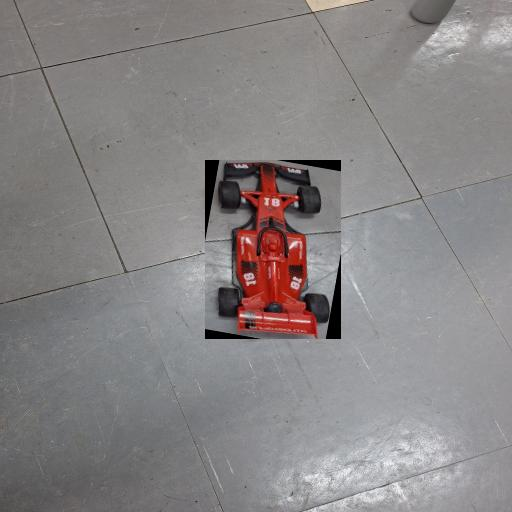carro: (205, 160, 341, 339)
